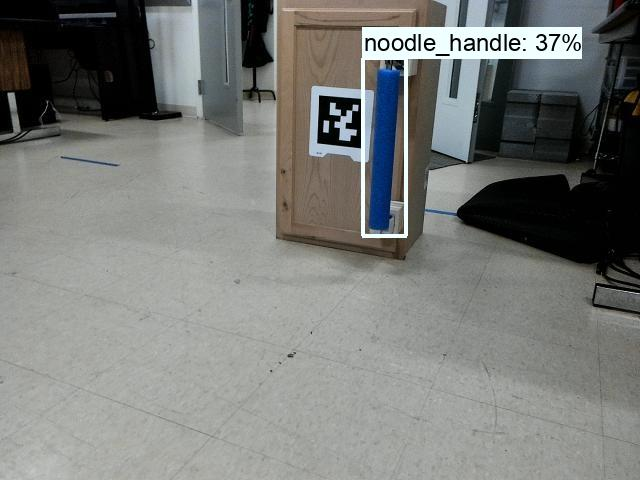noodle_handle: (362, 58, 405, 244)
